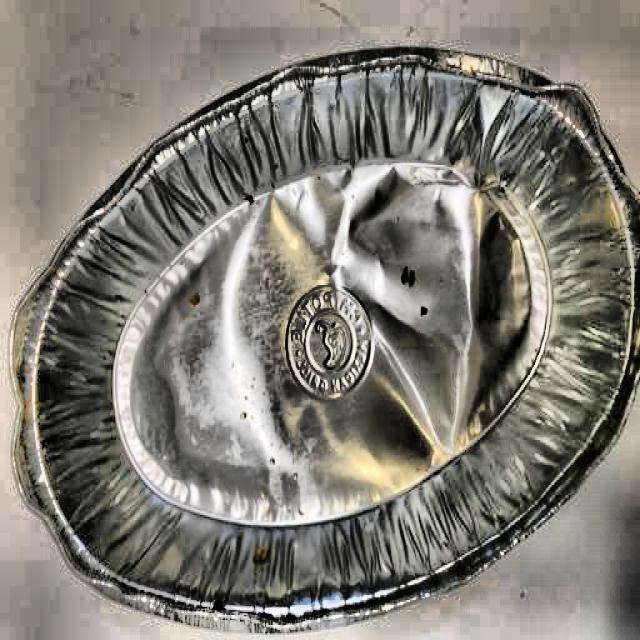metal: (0, 50, 640, 619)
